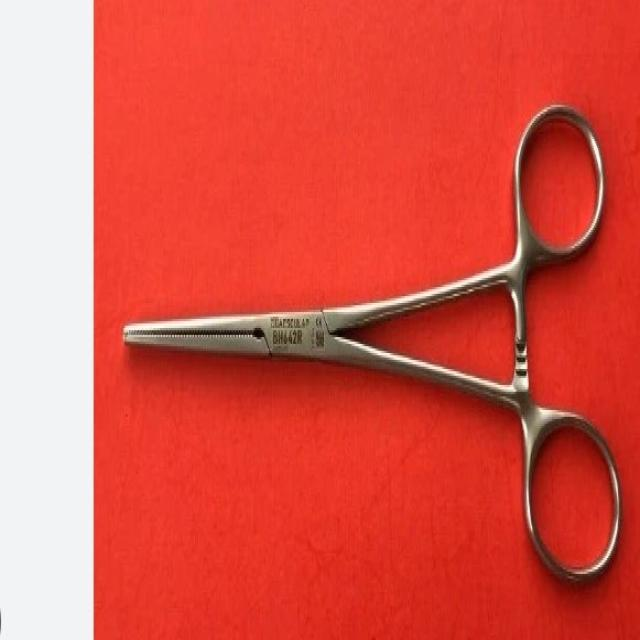Kocher Forceps: (121, 103, 622, 582)
